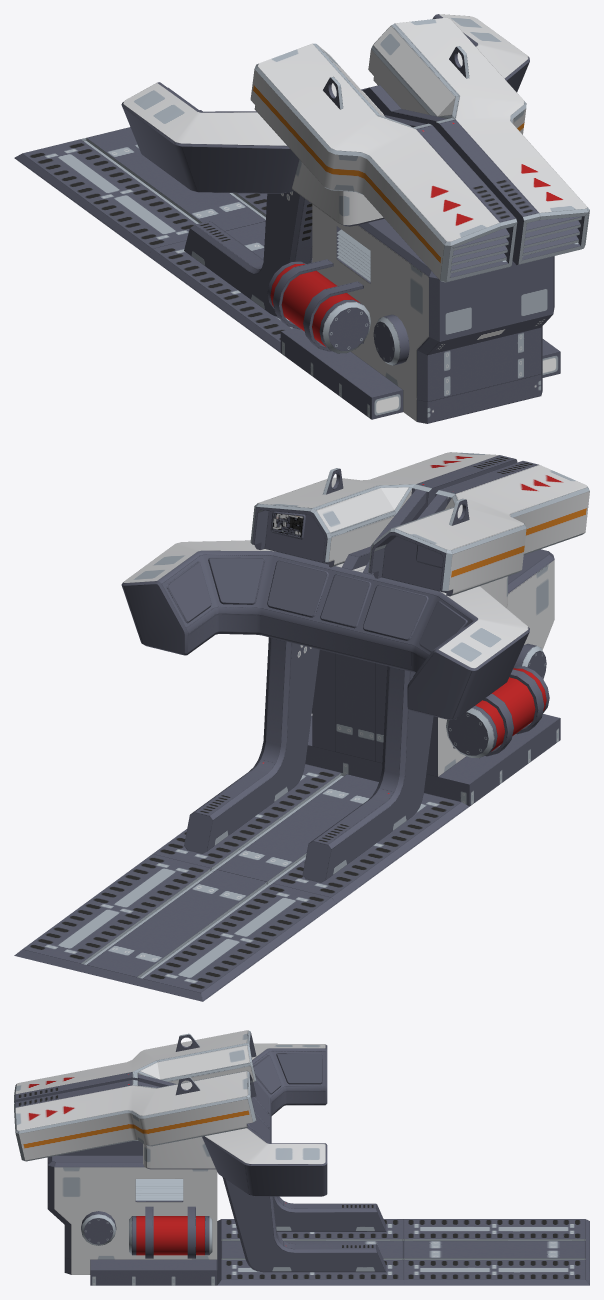
The model's file is Cockpit_Tech_03_Rev_A.FBX.
3 renders of one model, top to bottom at view 1: azimuth 30°, elevation 25°; view 2: azimuth 150°, elevation 25°; view 3: azimuth 270°, elevation 25°, orthographic. The views are drawn at different scales.
Visible parts, largest first — view 1: Cockpit_Tech_03_Rev_A; view 2: Cockpit_Tech_03_Rev_A; view 3: Cockpit_Tech_03_Rev_A.
Boxes of the visible parts, bbox=[...] form: Cockpit_Tech_03_Rev_A: bbox=[14, 14, 589, 423]; Cockpit_Tech_03_Rev_A: bbox=[14, 452, 589, 1001]; Cockpit_Tech_03_Rev_A: bbox=[14, 1030, 589, 1285].
Size of the model in its own units: 2.18 by 1.66 by 4.38.
